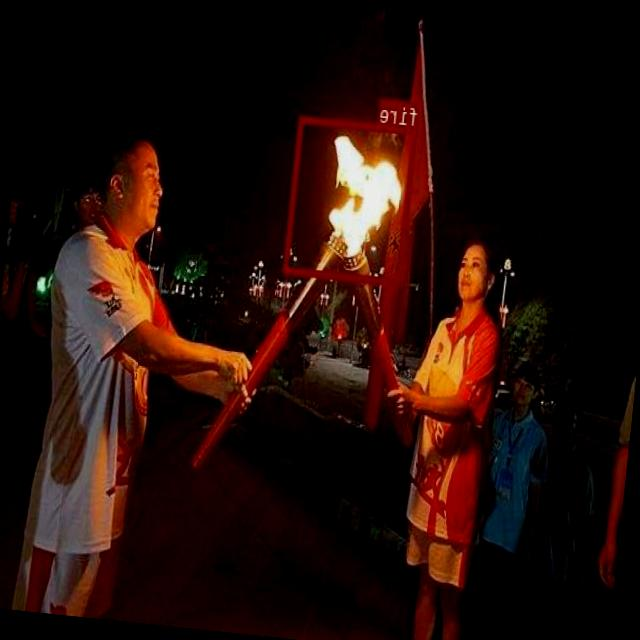fire: (284, 114, 418, 284)
